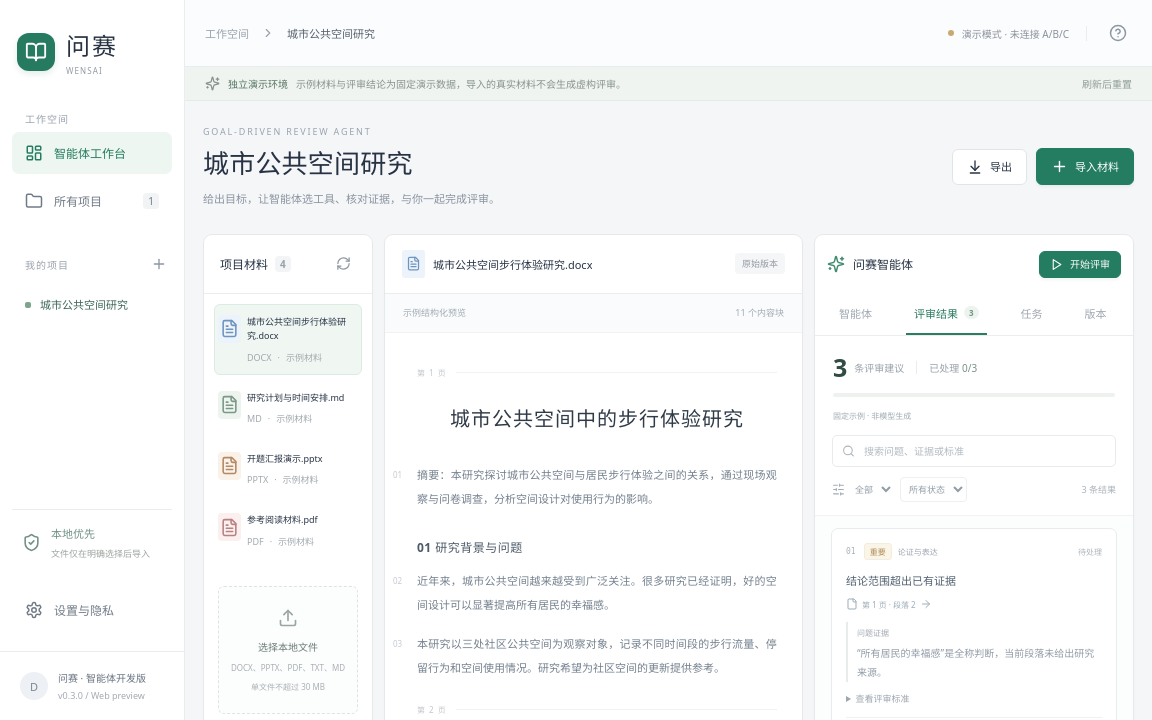
Test case: interactive workspace › filters by exact severity and query without inventing severity
The image size is (1152, 720).
Expected: the button "结论范围超出已有证据" is shown, [846,572,956,590]
Select "建议" in the dropdown named "严重程度筛选" at (870, 489), box [847,478,894,501]
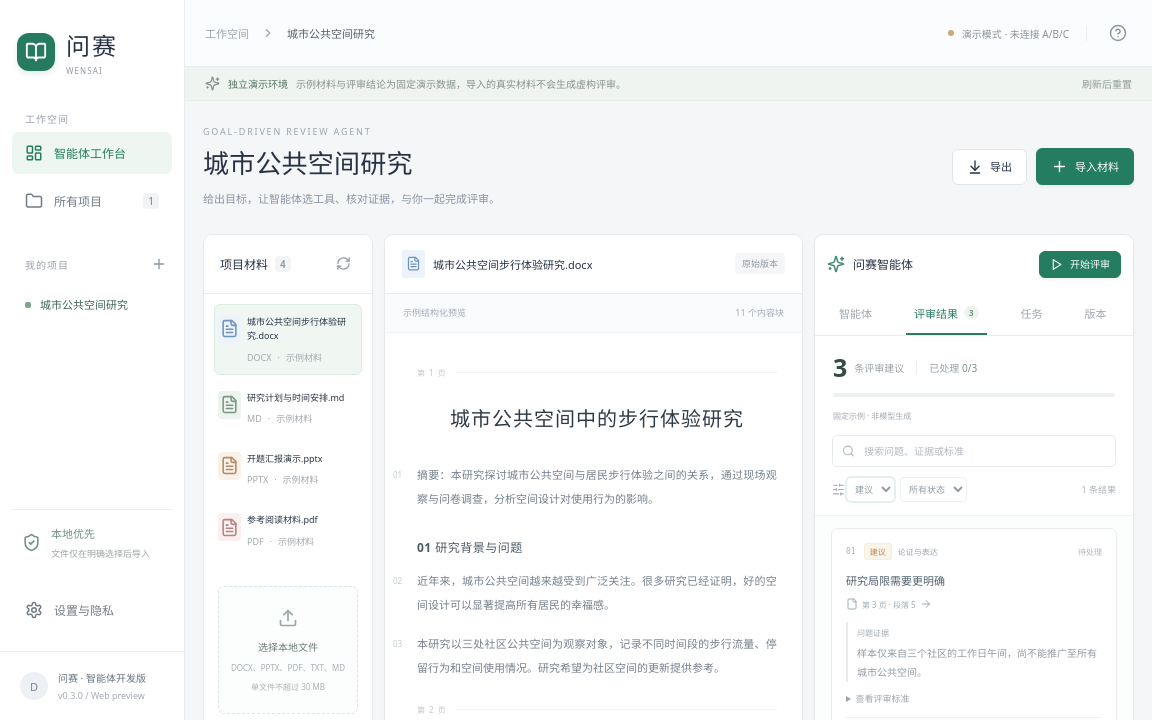
Expected: the button "结论范围超出已有证据" is gone
Expected: the button "研究局限需要更明确" is shown, [846,572,945,590]
Type "不可能匹配" into the field named "搜索评审结果" at (984, 451), box [862,443,1106,459]
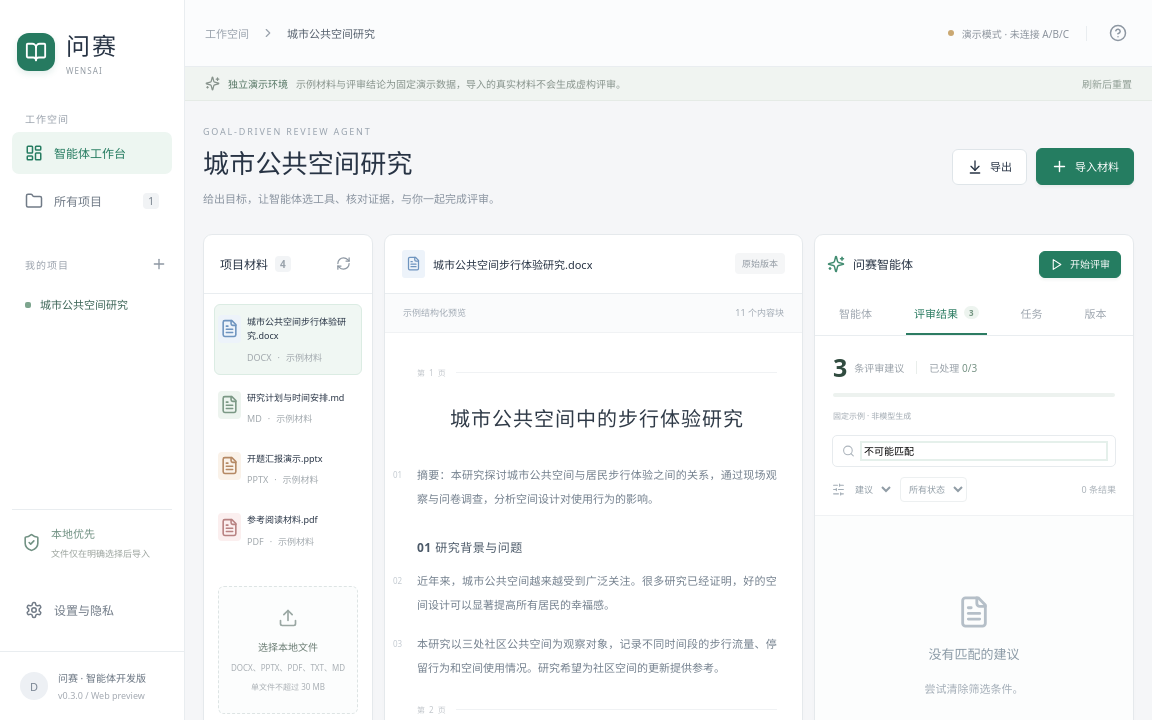
Expected: the heading "没有匹配的建议" is shown, [928,644,1020,663]
